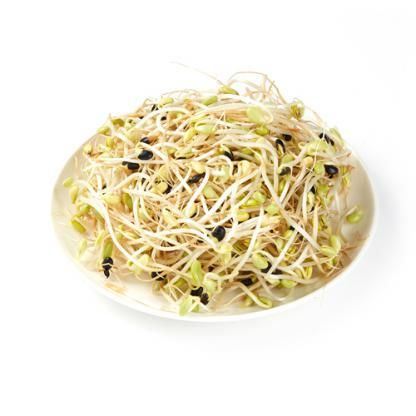bean sprouts: (86, 98, 368, 312)
